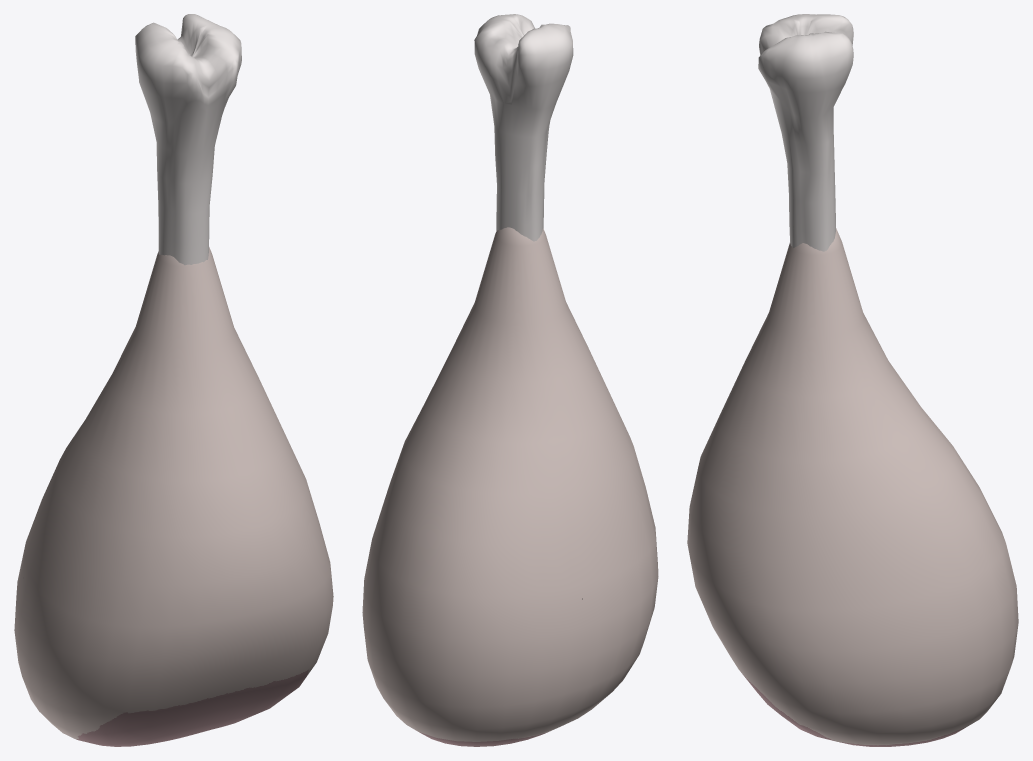
The model's file is chicken.obj.
3 views of the same model, side by side, from view 1: azimuth 30°, elevation 25°; view 2: azimuth 150°, elevation 25°; view 3: azimuth 270°, elevation 25° (orthographic). The views are drawn at different scales.
Visible parts, largest first — view 1: Sphere001, Cylinder001; view 2: Sphere001, Cylinder001; view 3: Sphere001, Cylinder001.
Boxes of the visible parts, box(x1,y1,x2,y2) form: Sphere001: box(14, 247, 333, 746); Cylinder001: box(135, 14, 241, 265); Sphere001: box(362, 227, 658, 746); Cylinder001: box(474, 14, 573, 241); Sphere001: box(687, 228, 1018, 746); Cylinder001: box(758, 14, 853, 251).
Size of the model in its own units: 5.65 by 14.62 by 6.23.
